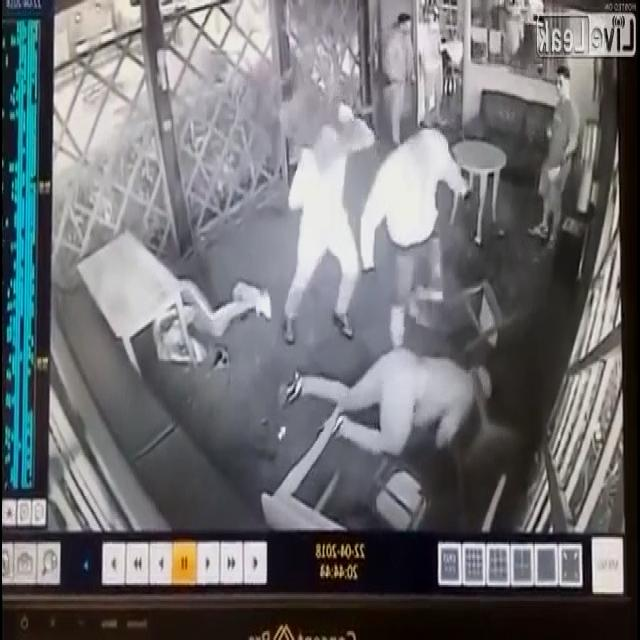fight: (359, 119, 496, 458)
